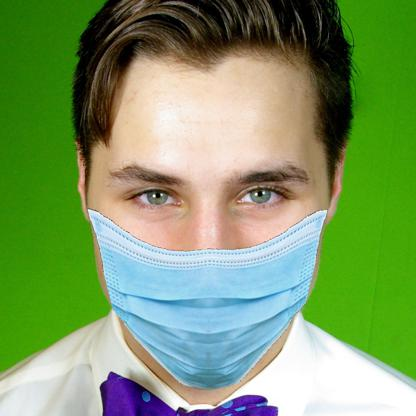mask: (87, 208, 328, 390)
